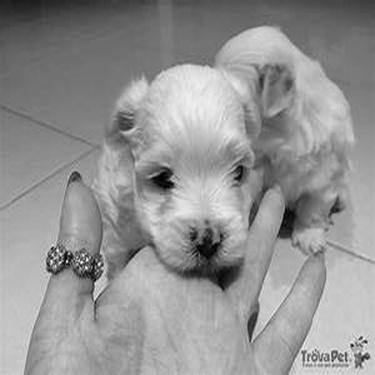dog: (72, 52, 269, 299), (199, 16, 364, 288)
